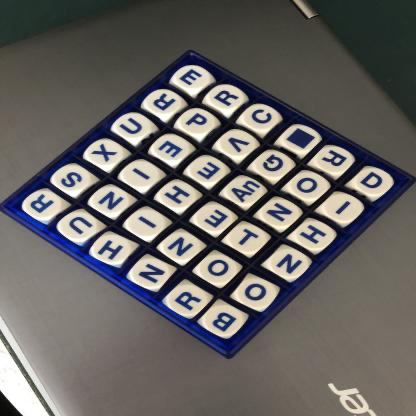an: (226, 178, 265, 207)
b: (205, 306, 245, 338)
c: (243, 106, 281, 132)
d: (356, 169, 393, 197)
e: (190, 157, 228, 184), (154, 136, 190, 163), (197, 206, 234, 232), (176, 66, 210, 90)
g: (257, 152, 294, 179)
h: (92, 235, 133, 265), (296, 223, 336, 251), (160, 183, 198, 211)
i: (128, 211, 167, 238), (124, 162, 162, 189), (326, 195, 363, 222)
n: (133, 259, 172, 290), (270, 250, 310, 278), (92, 187, 131, 215), (262, 200, 299, 228), (164, 233, 201, 260)
o: (237, 279, 277, 309), (199, 256, 239, 285), (292, 173, 328, 201)
p: (181, 109, 217, 136)
r: (168, 286, 209, 316), (25, 192, 62, 220), (317, 148, 355, 175), (208, 85, 245, 112), (146, 90, 182, 115)
s: (55, 166, 91, 192)
t: (229, 226, 267, 254)
u: (60, 213, 97, 240), (117, 114, 152, 140)
v: (220, 132, 257, 158)
wild: (285, 126, 320, 152)
x: (89, 141, 124, 167)
